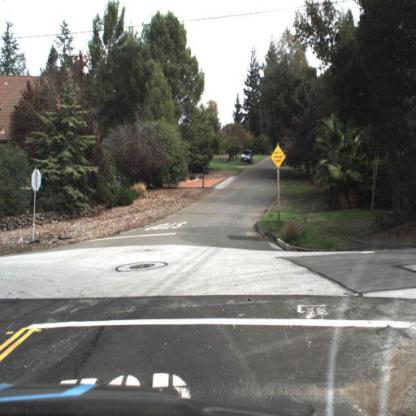car: (240, 149, 255, 169)
